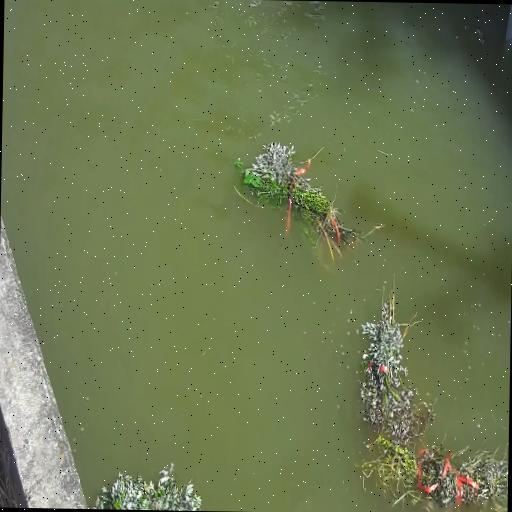twig: (235, 140, 380, 260), (360, 428, 508, 512), (360, 276, 438, 432), (96, 458, 202, 510)
